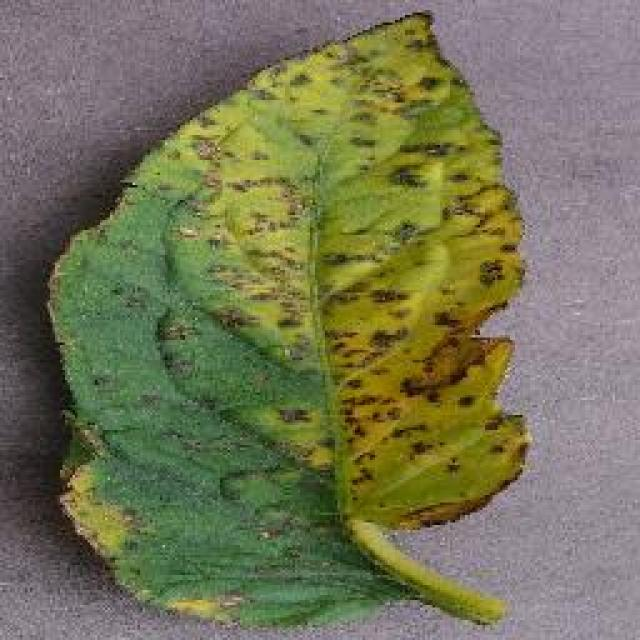Tomato___Bacterial_spot: (48, 8, 537, 632)
